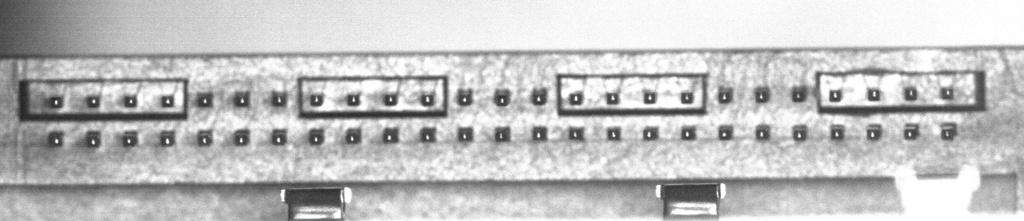pin_ok: (493, 88, 511, 106), (940, 122, 958, 140), (531, 87, 548, 105), (47, 130, 64, 147), (456, 88, 473, 105), (85, 130, 101, 147), (866, 124, 882, 141), (196, 91, 213, 107), (197, 129, 213, 146), (308, 128, 324, 145), (159, 130, 175, 147), (420, 126, 437, 142), (754, 86, 770, 103), (791, 85, 807, 102), (271, 90, 287, 106), (494, 126, 510, 142), (271, 129, 287, 145), (903, 124, 919, 140), (233, 129, 249, 145), (122, 131, 138, 147), (344, 128, 360, 144), (233, 91, 249, 107), (718, 86, 733, 103), (382, 127, 399, 142), (792, 125, 807, 141), (531, 126, 547, 141), (457, 126, 473, 141), (830, 124, 845, 140), (717, 125, 733, 140), (755, 125, 770, 140), (642, 126, 658, 140), (568, 126, 584, 140), (681, 126, 696, 140), (940, 86, 955, 100), (828, 88, 843, 102), (568, 91, 583, 105), (904, 86, 918, 101), (383, 92, 398, 106), (346, 92, 361, 106), (607, 126, 621, 140), (680, 90, 694, 104), (867, 87, 881, 101), (643, 90, 657, 104), (421, 92, 435, 106), (309, 93, 324, 106), (160, 94, 174, 107), (606, 91, 619, 104), (86, 95, 99, 108), (48, 96, 62, 108), (124, 95, 137, 107)
